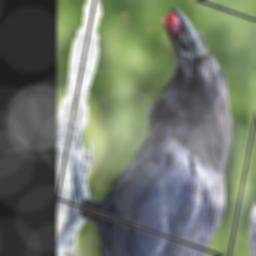Crow: (59, 0, 256, 252)
